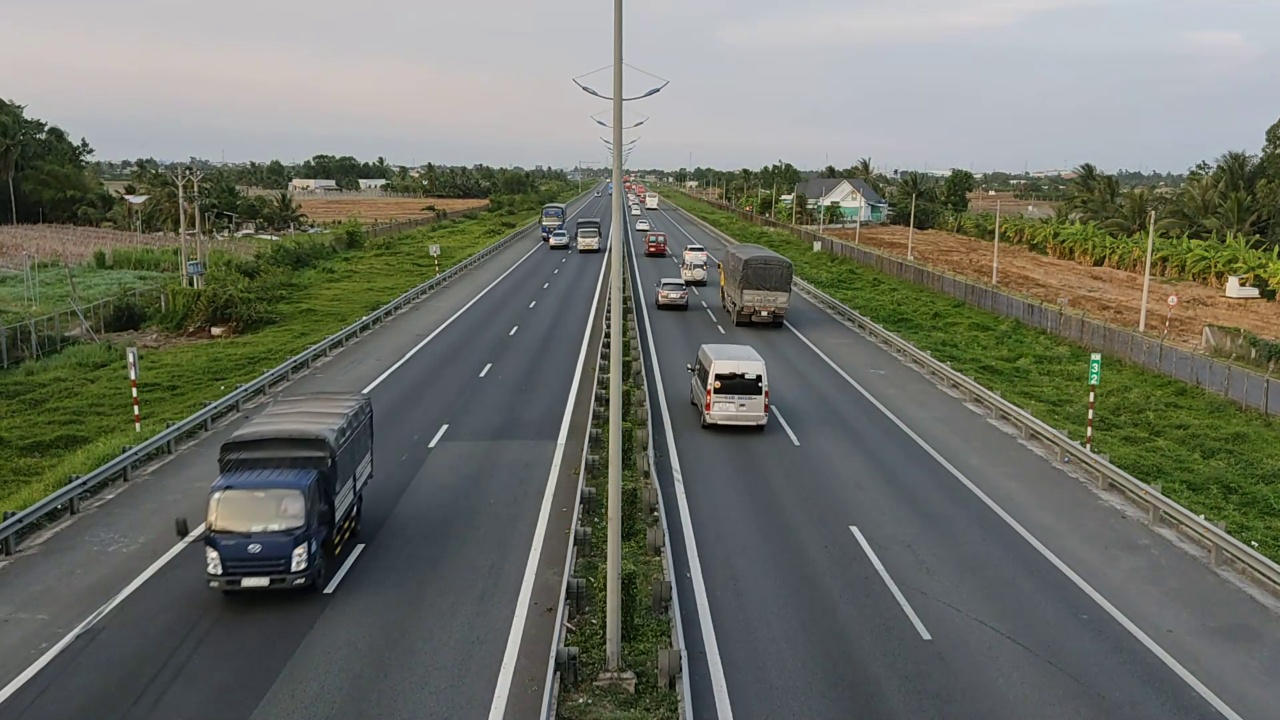car: (685, 342, 771, 429), (655, 278, 689, 309), (576, 219, 602, 253), (643, 231, 669, 257)
truck: (203, 391, 377, 597), (719, 243, 793, 325), (576, 219, 602, 253)
